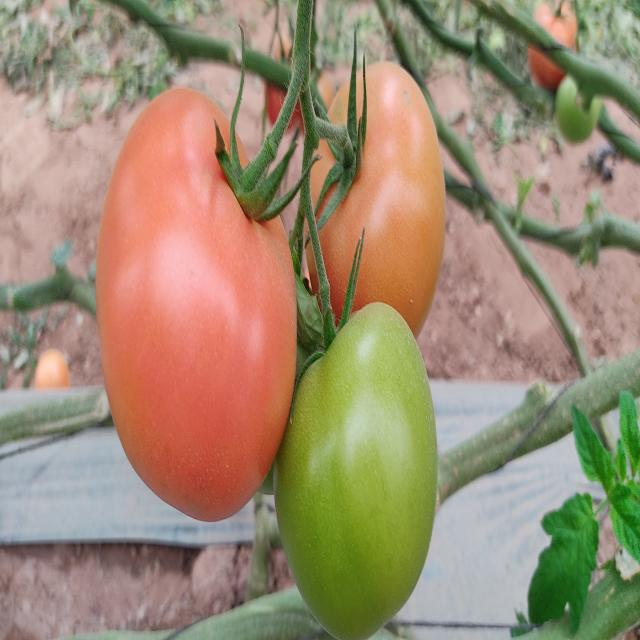Ripe Tomato: (98, 91, 299, 517)
Unripe Tomato: (275, 301, 440, 638), (302, 61, 442, 342)
